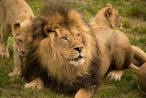lion: (28, 12, 131, 98)
